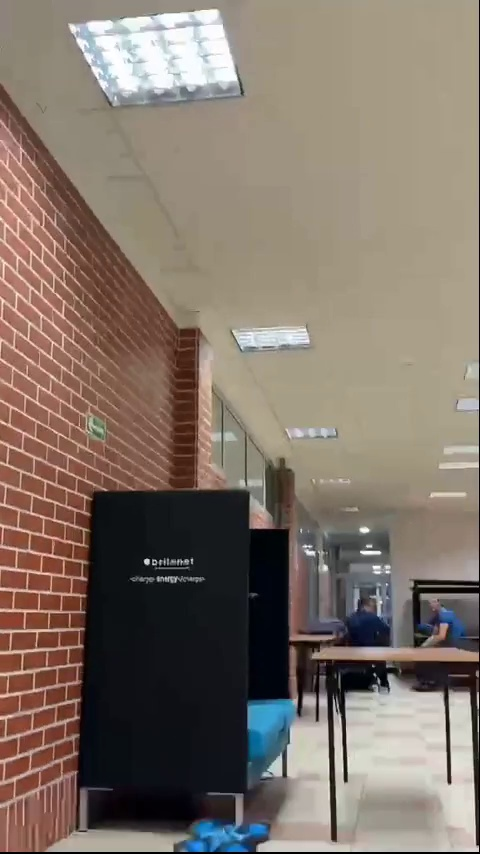drone: (174, 813, 274, 854)
no vest: (417, 598, 475, 670)
